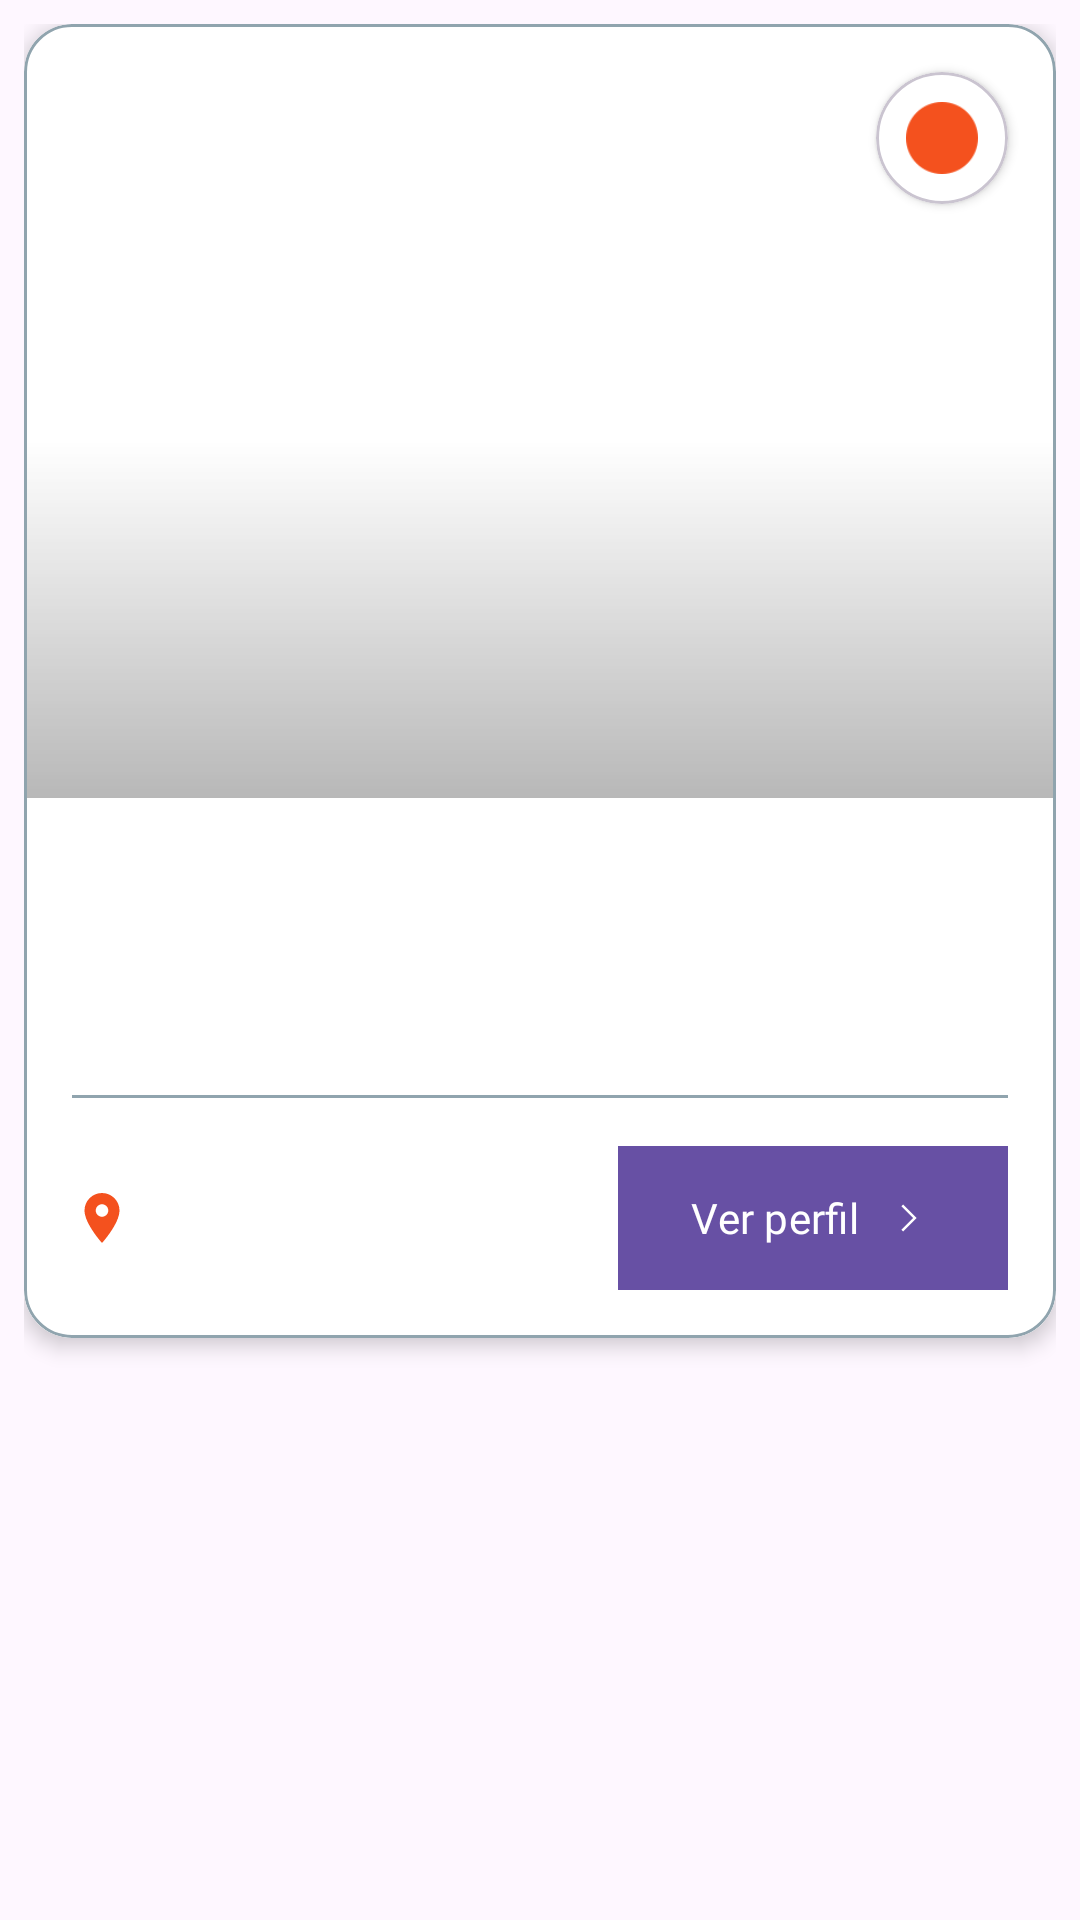

Icons on this 1080*1920 Android screen, each with the point to tap as [x,y]:
location: [102,1218]
